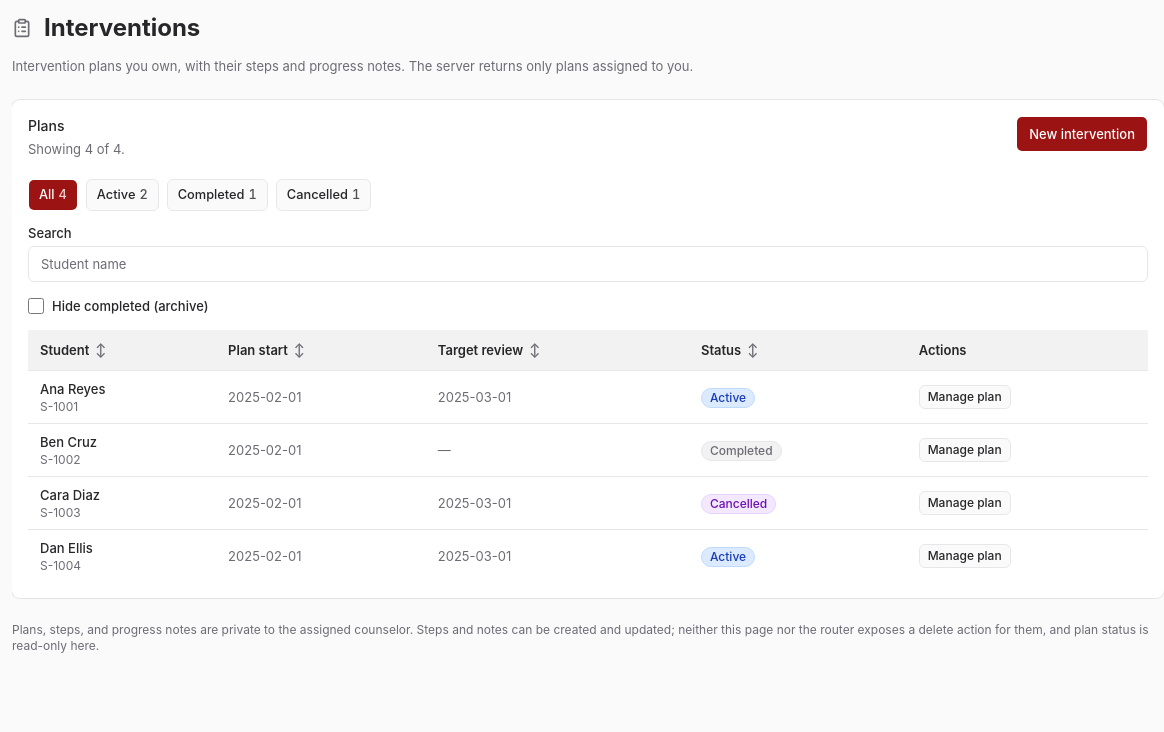
InterventionsPage › shows an empty state when filters exclude everything
Check: the text "Ana Reyes" is shown, box [40, 381, 105, 397]
Type "zzzz-no-match" into the search field labelled "Search".
click(588, 264); type("zzzz-no-match")  # box [28, 246, 1148, 282]
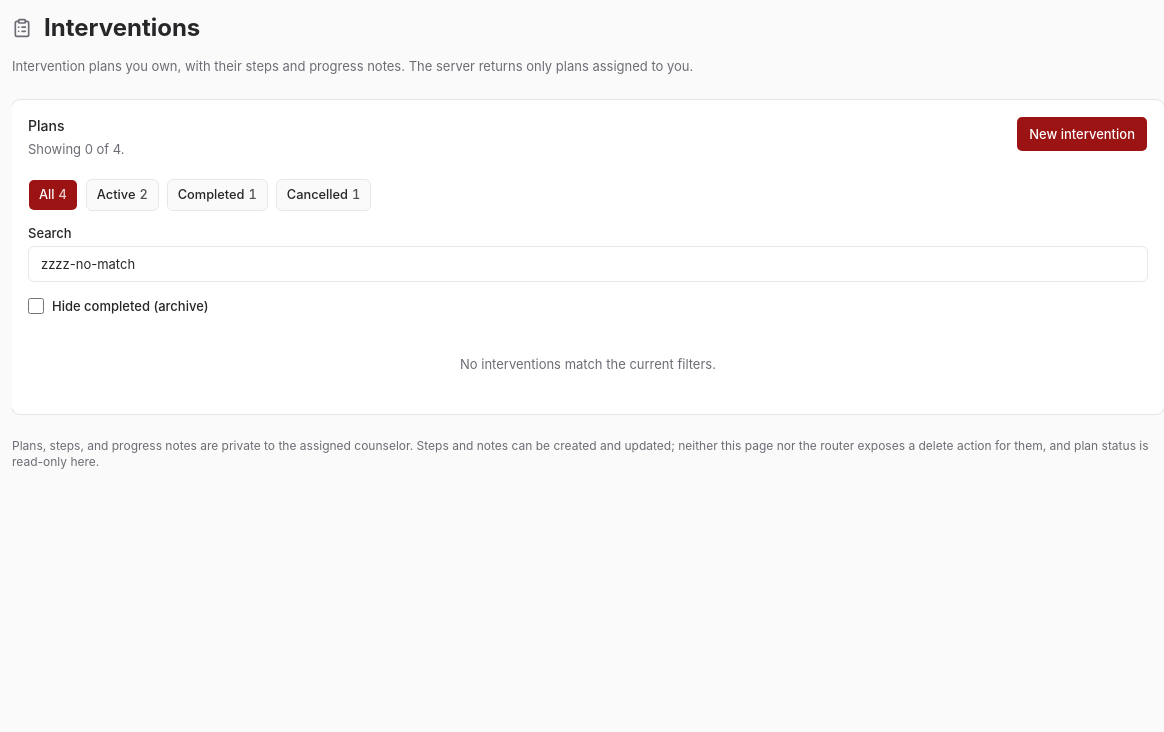
Check: the text "No interventions match the current filters." is shown, box [460, 356, 716, 372]
